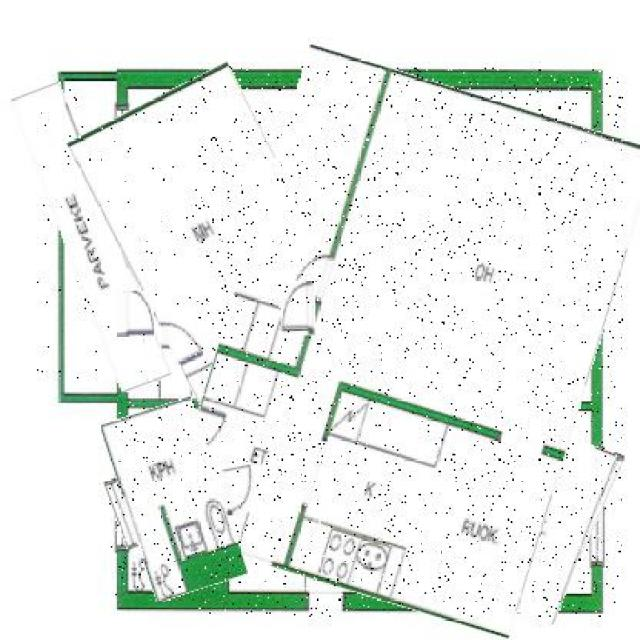window: (99, 111, 148, 272), (582, 194, 616, 329), (578, 452, 616, 563), (110, 477, 136, 549)
zone: (195, 66, 623, 617), (97, 72, 338, 410), (348, 390, 604, 608), (37, 81, 145, 392), (114, 401, 234, 597), (280, 280, 315, 335), (222, 466, 258, 514), (117, 291, 154, 337)
